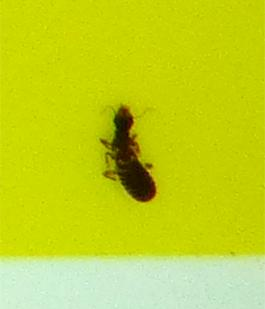Isoptera: (100, 100, 165, 209)
